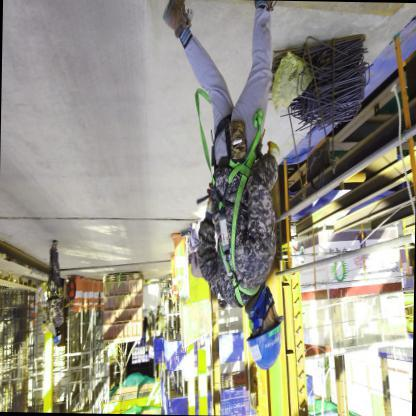safety-shoe: (156, 1, 201, 30)
